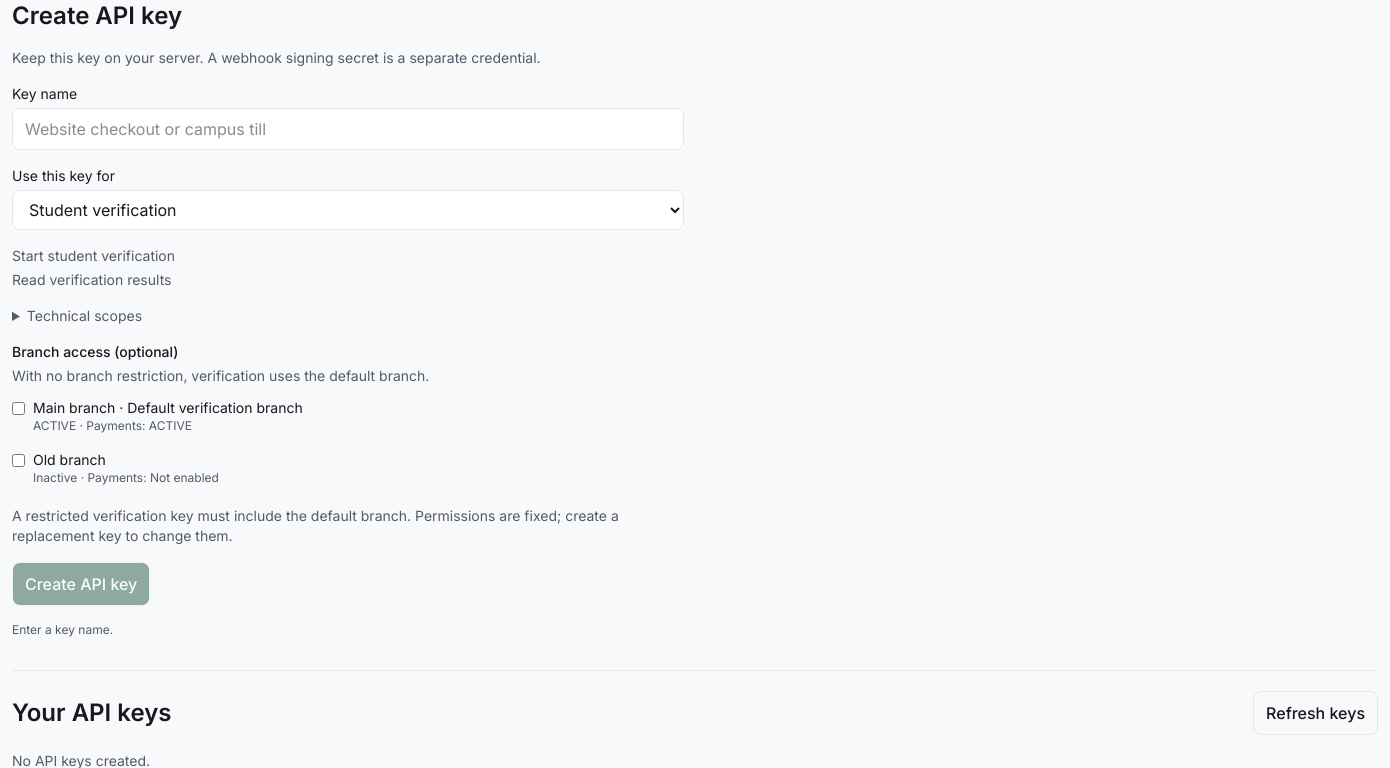
Test case: canonical integration credentials › retains a new key after clipboard failure and clears it explicitly
Step 1. Type "Checkout" into the field labelled "Key name" → (348,129), box x1=12 y1=108 x2=684 y2=150
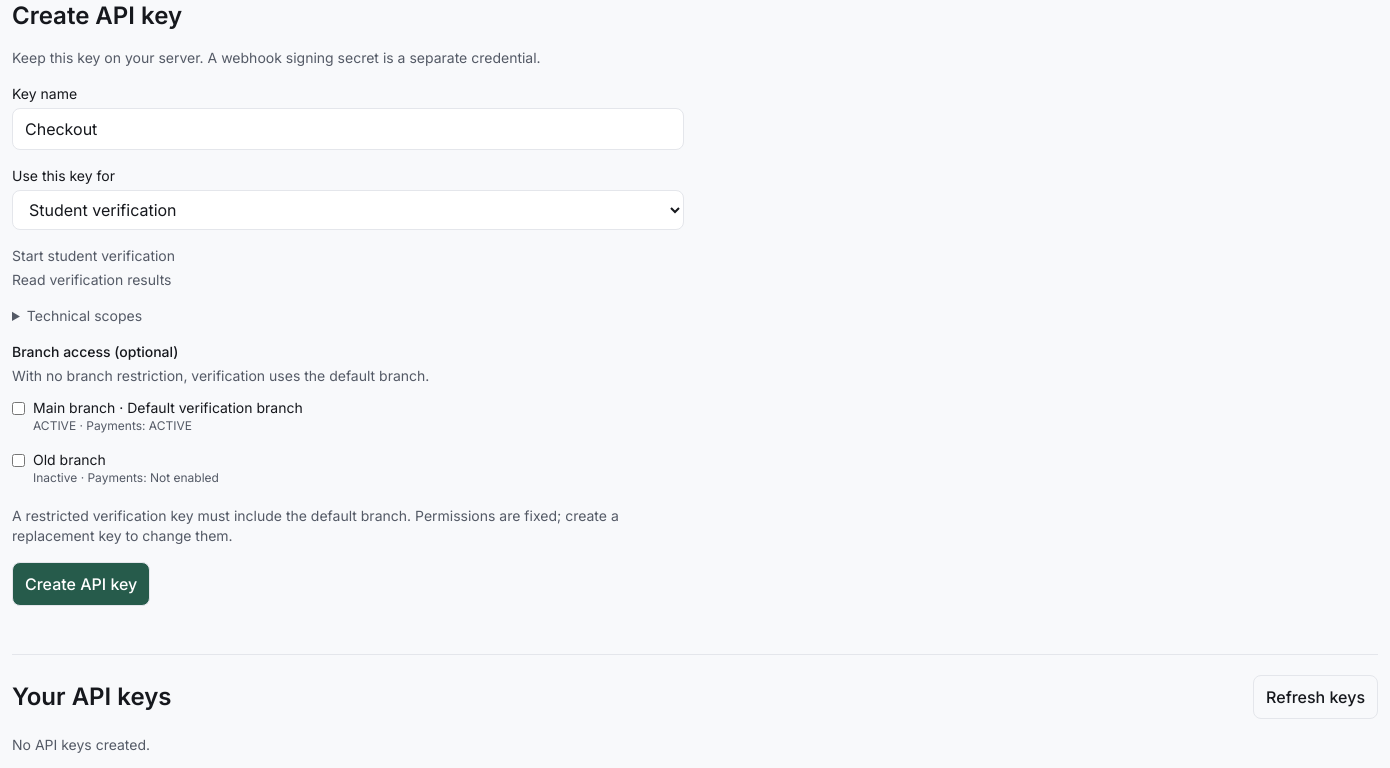
Step 2. Click the button "Create API key" → (81,584), box x1=12 y1=562 x2=150 y2=606
(page scrolled)
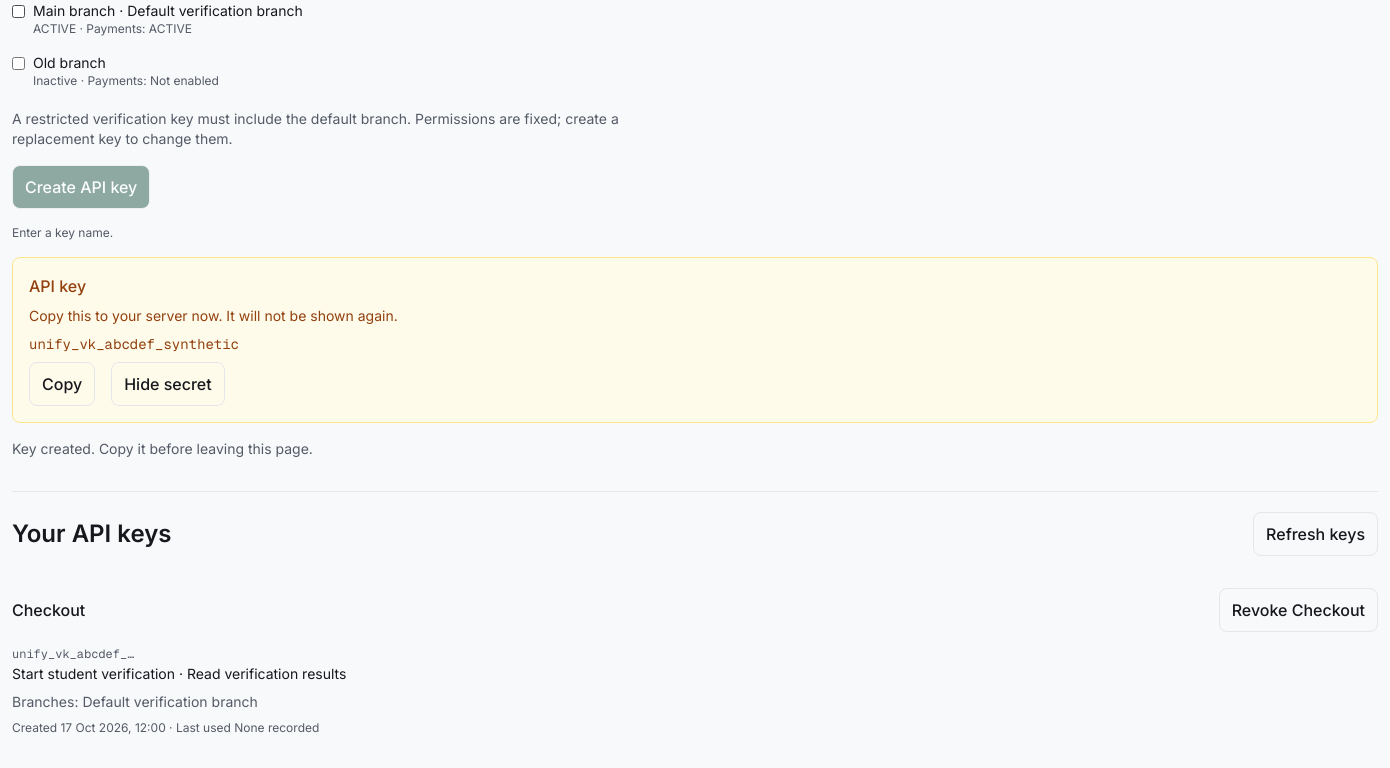
Result: the text "unify_vk_abcdef_synthetic" is shown at x1=29 y1=335 x2=239 y2=353
Step 3. Click the button with aria-label "Copy api key" → (62,384), box x1=29 y1=362 x2=95 y2=406
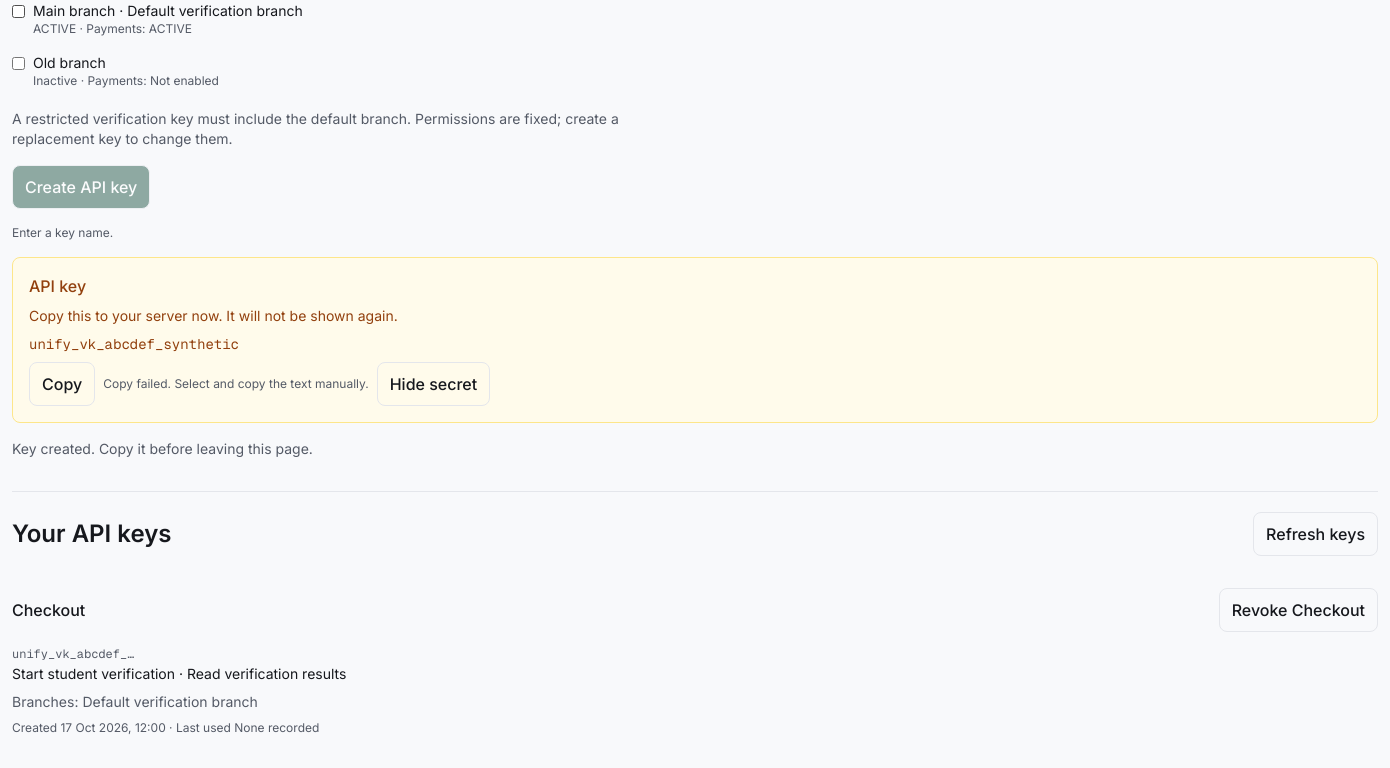
Result: the text "unify_vk_abcdef_synthetic" is shown at x1=29 y1=335 x2=239 y2=353
Result: the text "Copy failed. Select and copy the text manually." is shown at x1=103 y1=376 x2=369 y2=392
Step 4. Click the button "Hide secret" → (433,384), box x1=377 y1=362 x2=490 y2=406
(page scrolled)
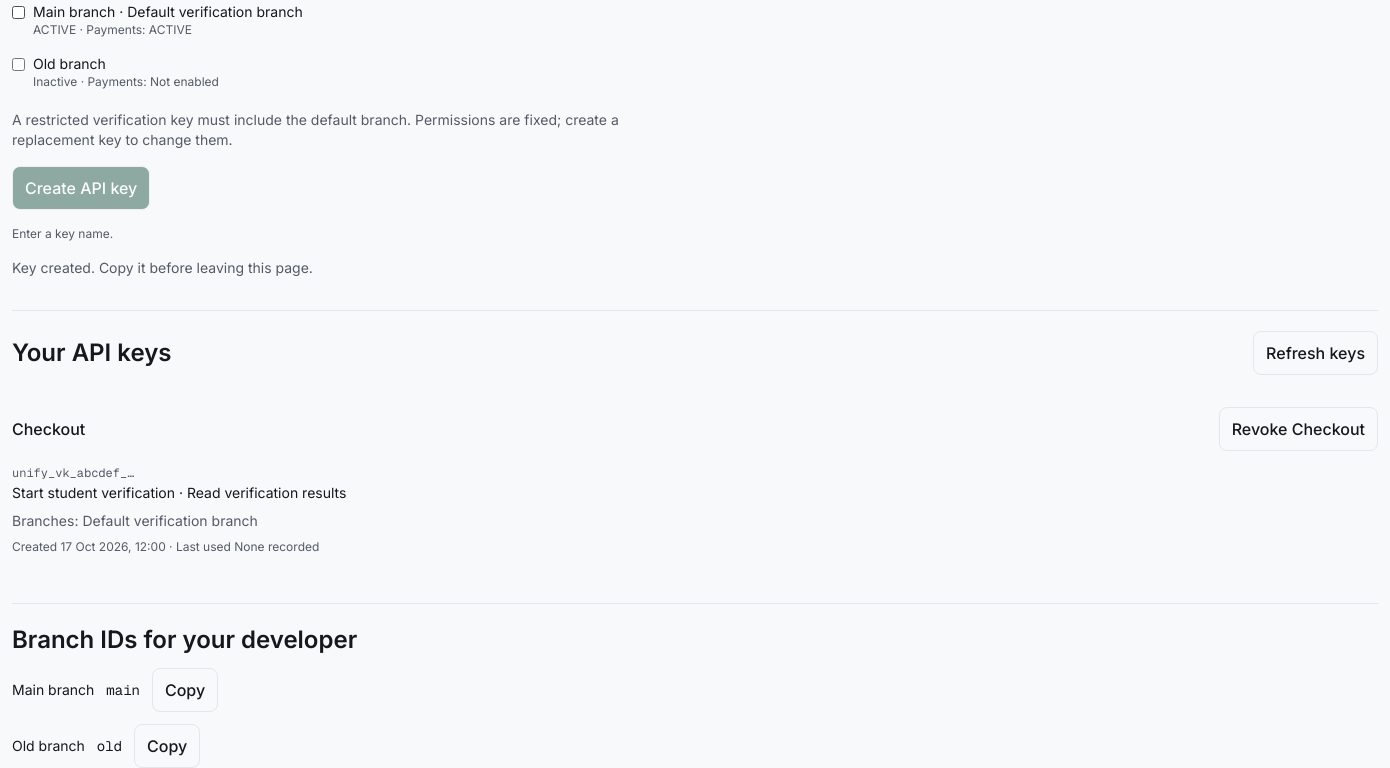
Result: the text "unify_vk_abcdef_synthetic" is gone
